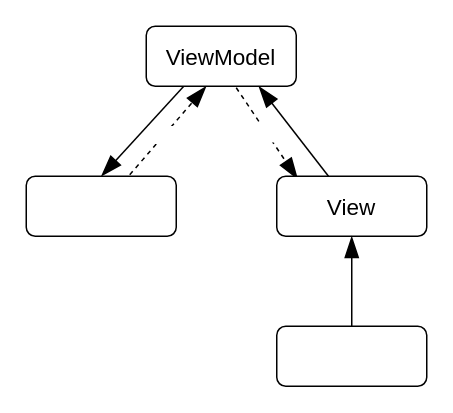
The diagram is 453 pixels wide and 413 high, and some of its shapes have lost their labels. The box of each missing label's shape, as (x1, y1, x2, y2) in pixels:
Model: (25, 175, 176, 236)
User: (275, 325, 427, 386)
